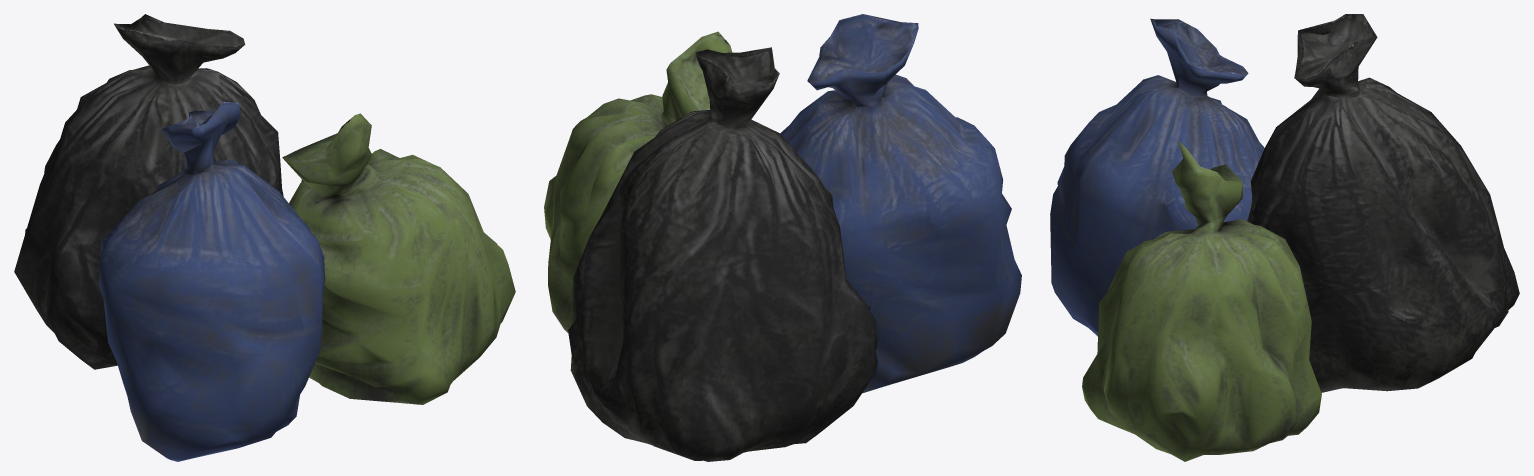
The model's file is trash.glb.
3 views of the same model, side by side, from view 1: azimuth 30°, elevation 25°; view 2: azimuth 150°, elevation 25°; view 3: azimuth 270°, elevation 25° (orthographic). The views are drawn at different scales.
Visible parts, largest first — view 1: Grouped Residential Trash Bag Set 3; view 2: Grouped Residential Trash Bag Set 3; view 3: Grouped Residential Trash Bag Set 3.
Part boxes in pixels (left/top/right/bottom): Grouped Residential Trash Bag Set 3: left=14, top=14, right=515, bottom=461; Grouped Residential Trash Bag Set 3: left=544, top=14, right=1021, bottom=461; Grouped Residential Trash Bag Set 3: left=1050, top=14, right=1519, bottom=461.
Size of the model in its own units: 0.6683 by 0.5352 by 0.6798.
Materials: 1 (1 with a texture image).
